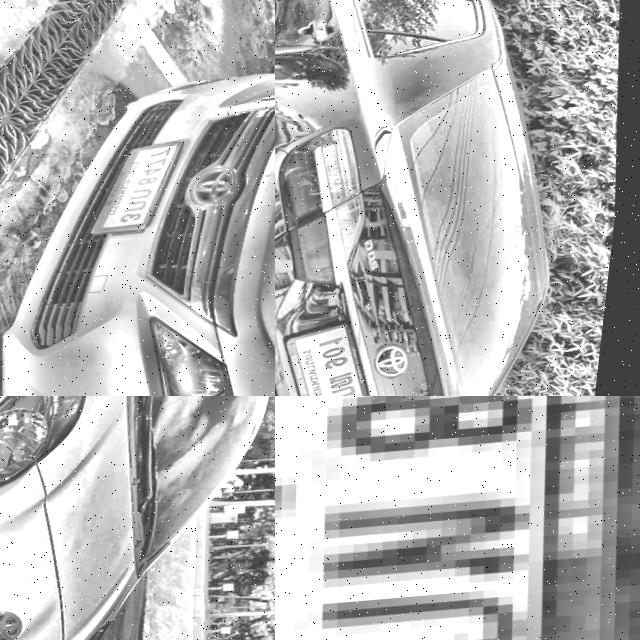license-plate: (275, 396, 640, 640), (81, 135, 200, 239), (283, 319, 394, 396)
